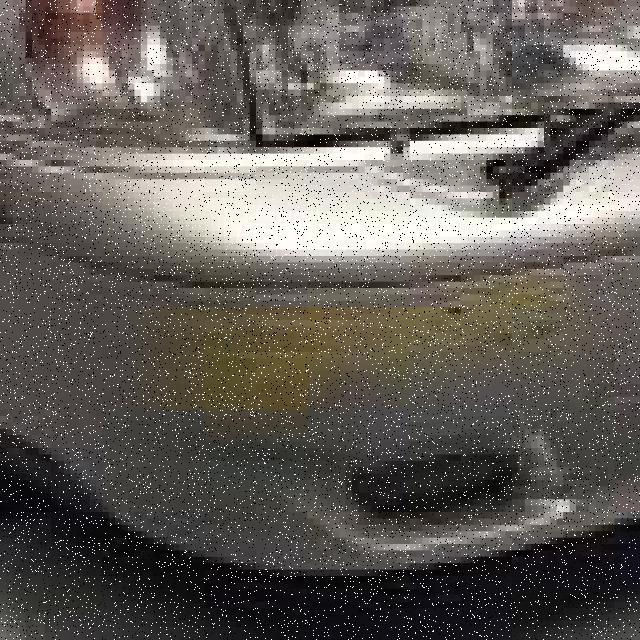front-bumper-dent: (0, 115, 634, 621)
